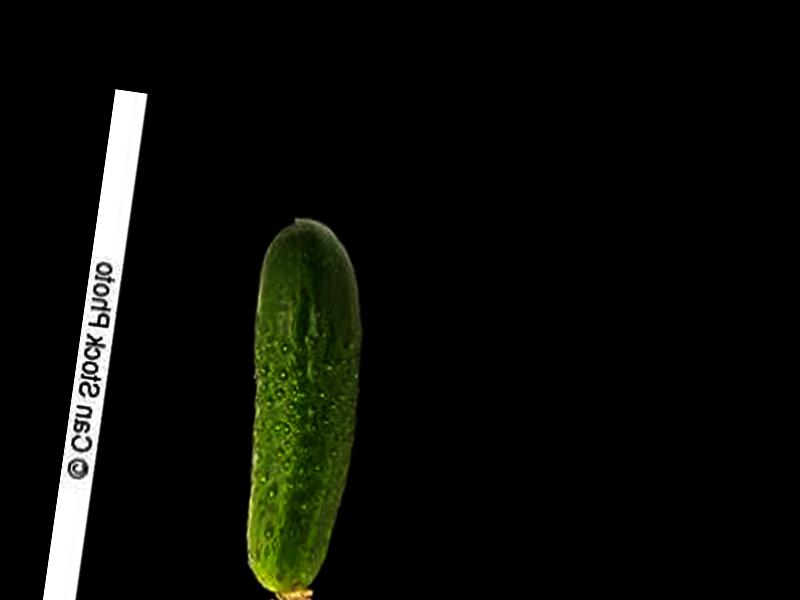Cucumber: (214, 212, 384, 600)
